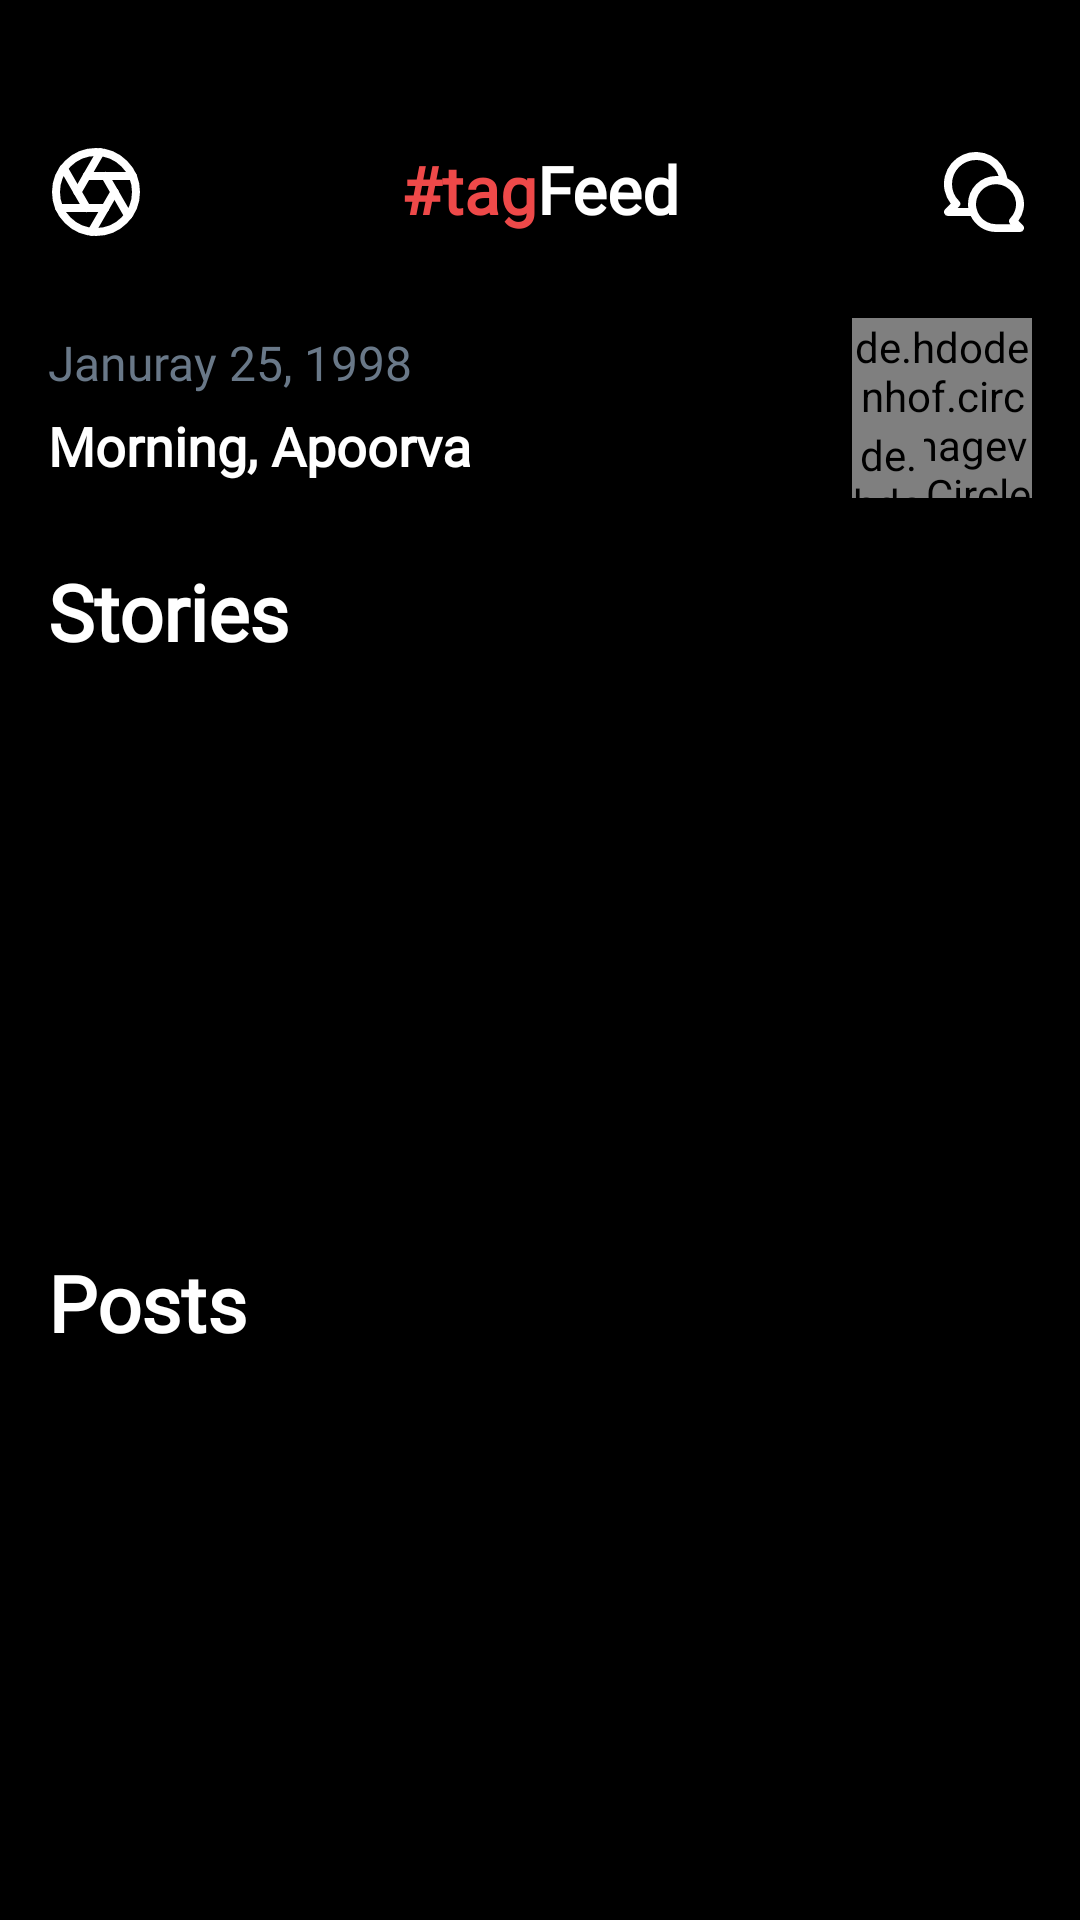

Icon bounding boxes for this 1080x1920 phone screenshot, format BBox(x1, y1, x2, y2):
camera: BBox(52, 148, 140, 236)
